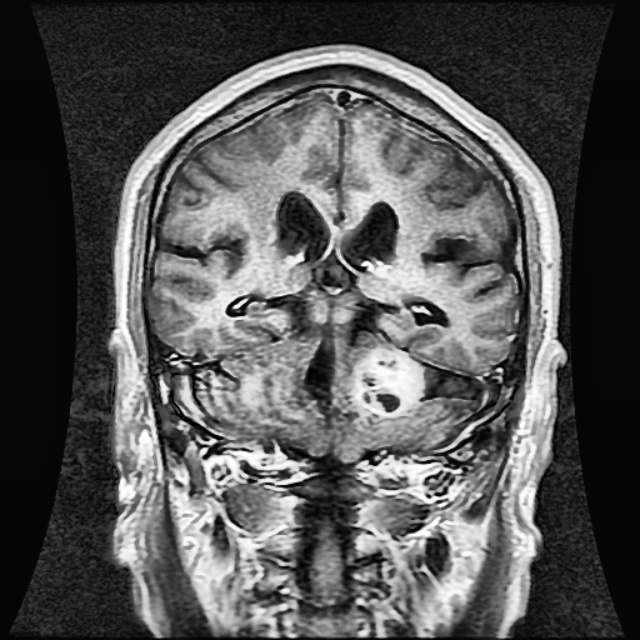Glioma: (353, 347, 425, 417)
